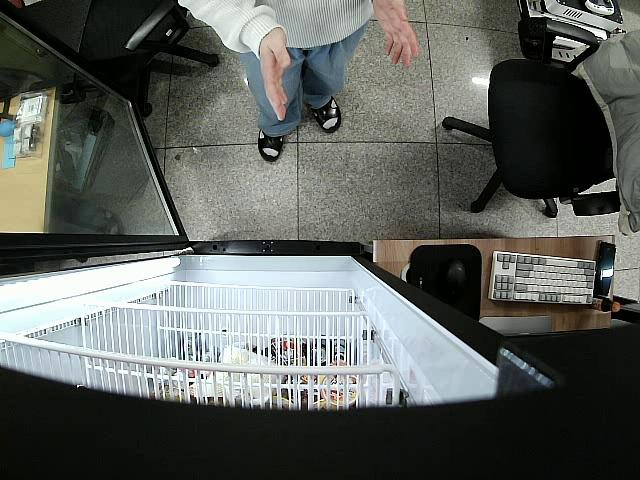00_hand: (258, 27, 293, 123), (372, 0, 419, 67)
